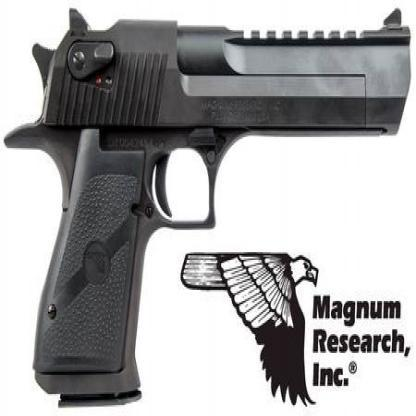Pistol: (2, 5, 412, 408)
